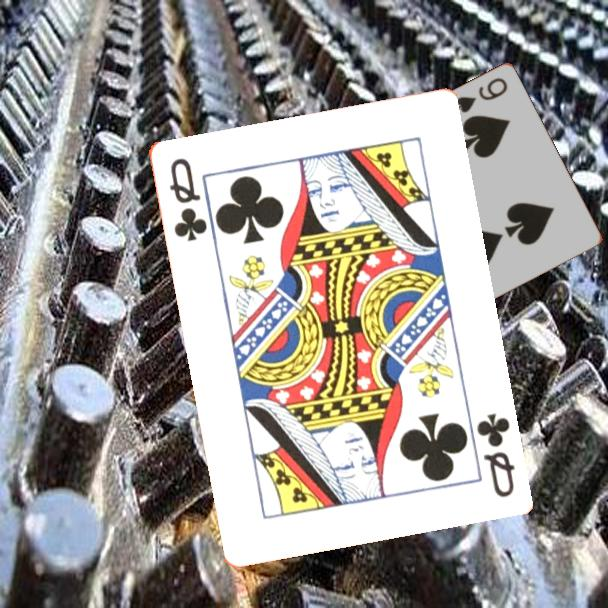c12: (472, 409, 517, 500), (165, 154, 210, 244)
s09: (451, 74, 510, 116)
